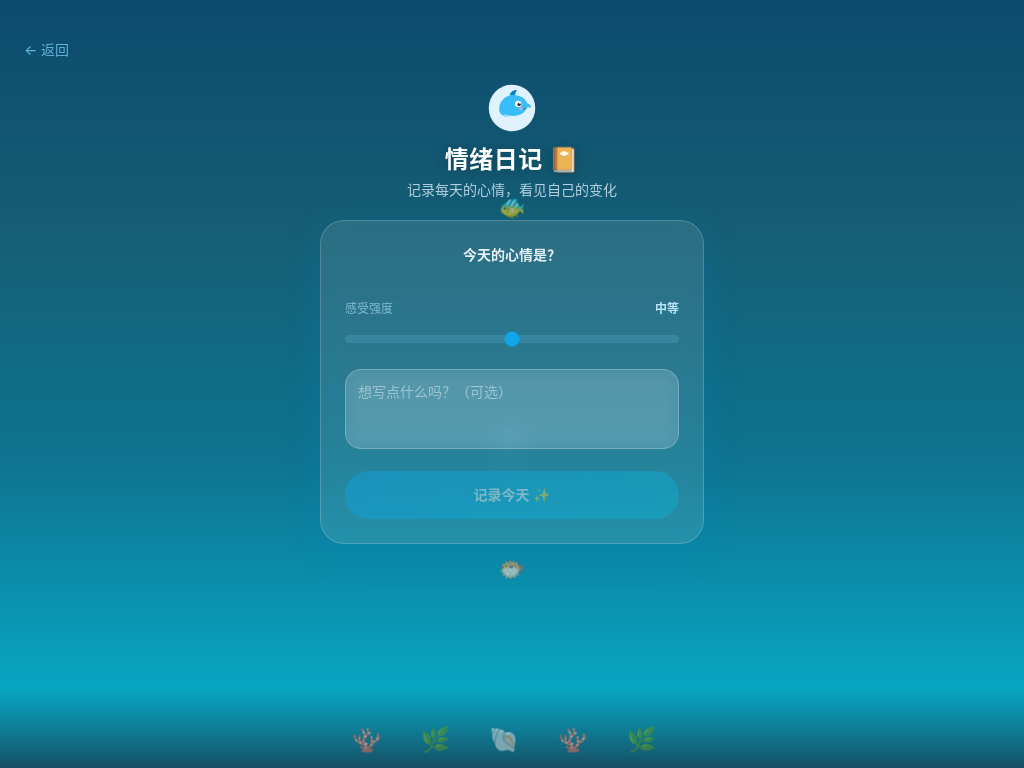
Test: EmotionDiary › 调整强度滑块更新标签
Set the slider to "5" at (671, 339), box left=345, top=335, right=679, bottom=343
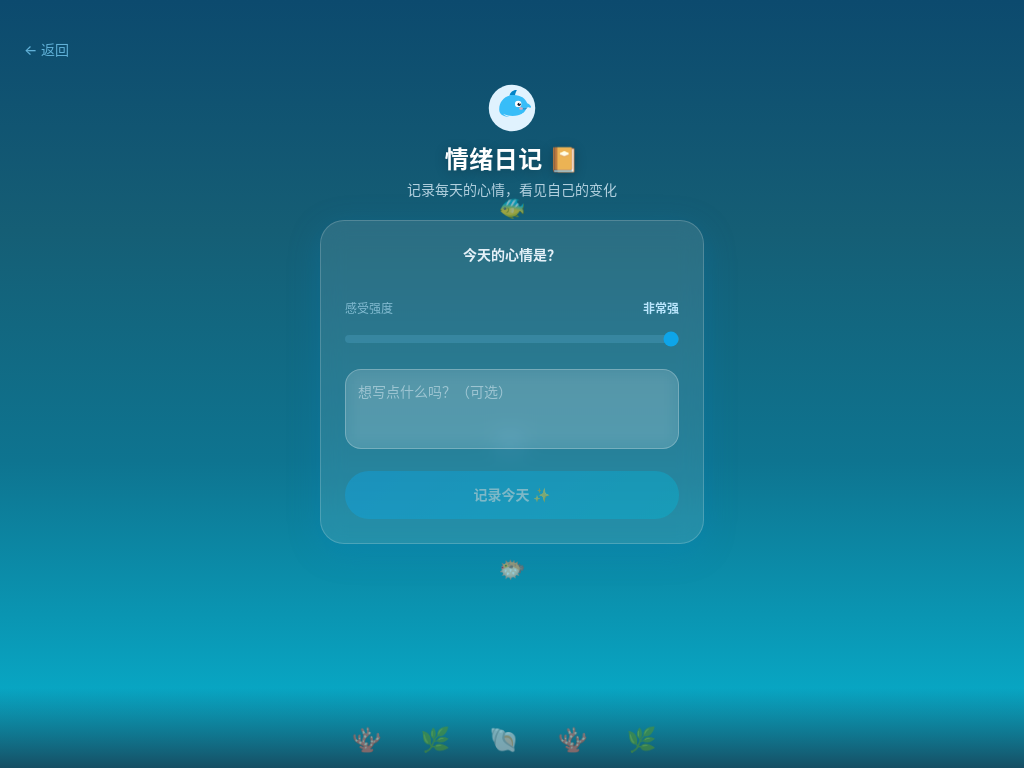
Expected: the text "非常强" is shown, left=643, top=301, right=679, bottom=317
